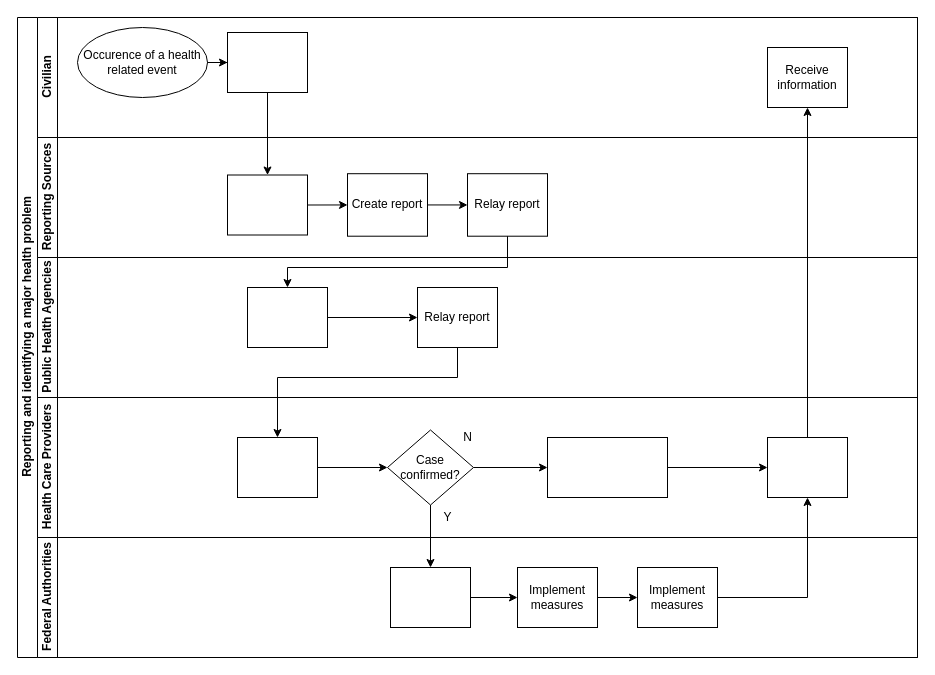
Some shapes in this 935 by 675 pixel diagram are drawn without their labels. Here are the shapes that lost their labels. From the top down, the centre of each, then its label:
[267,62]: Provide data
[267,204]: Obtain data
[287,317]: Obtain report
[277,467]: Analyse report
[607,467]: Provide information
[807,467]: Relay information
[430,597]: Emergency preparation
